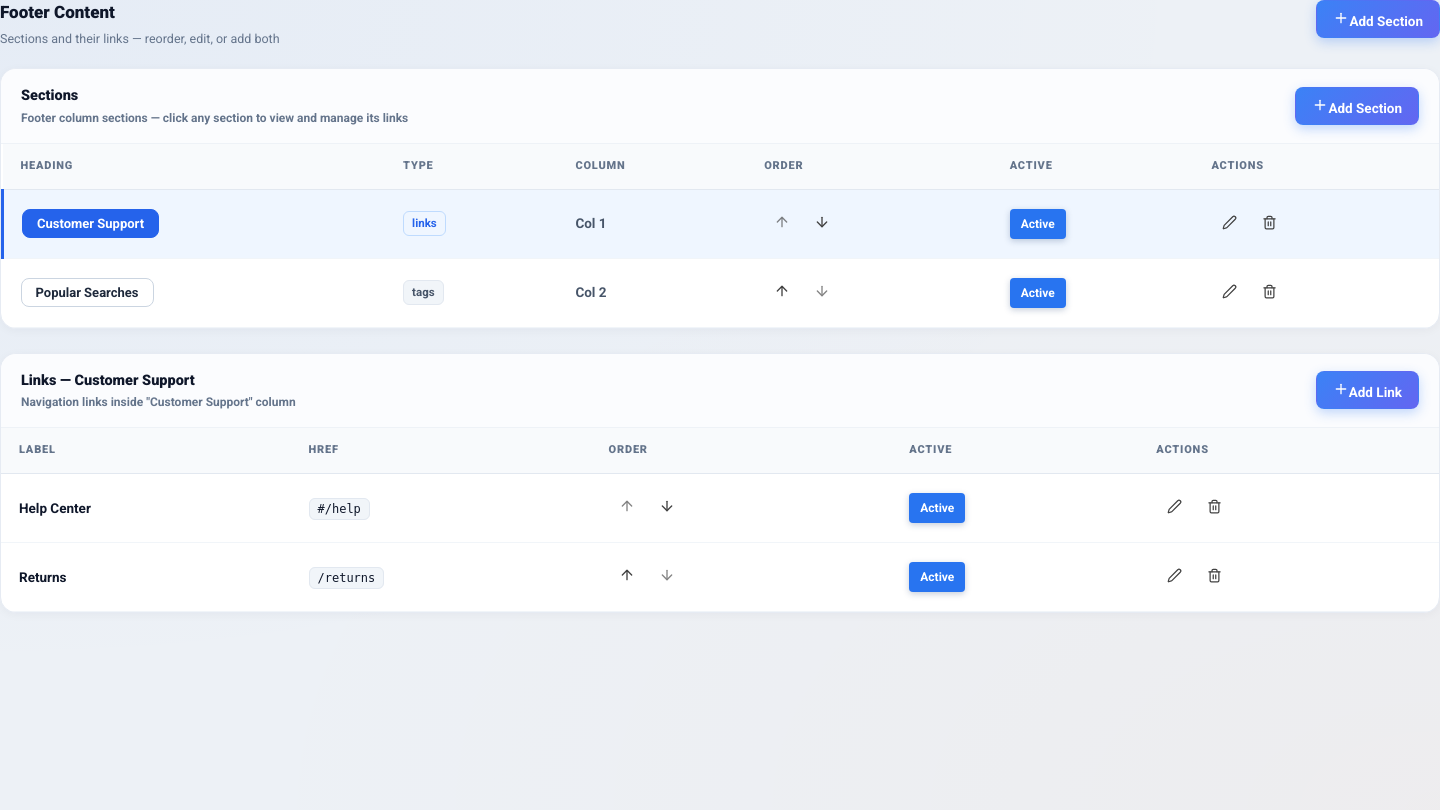
Scenario: FooterEditor › drops the link clause from the delete title when the section is empty
Expected: the button "Popular Searches" is shown, x1=20 y1=278 x2=154 y2=307
Click the button named "Delete section Popular Searches": (1269, 292) x1=1251 y1=274 x2=1287 y2=310
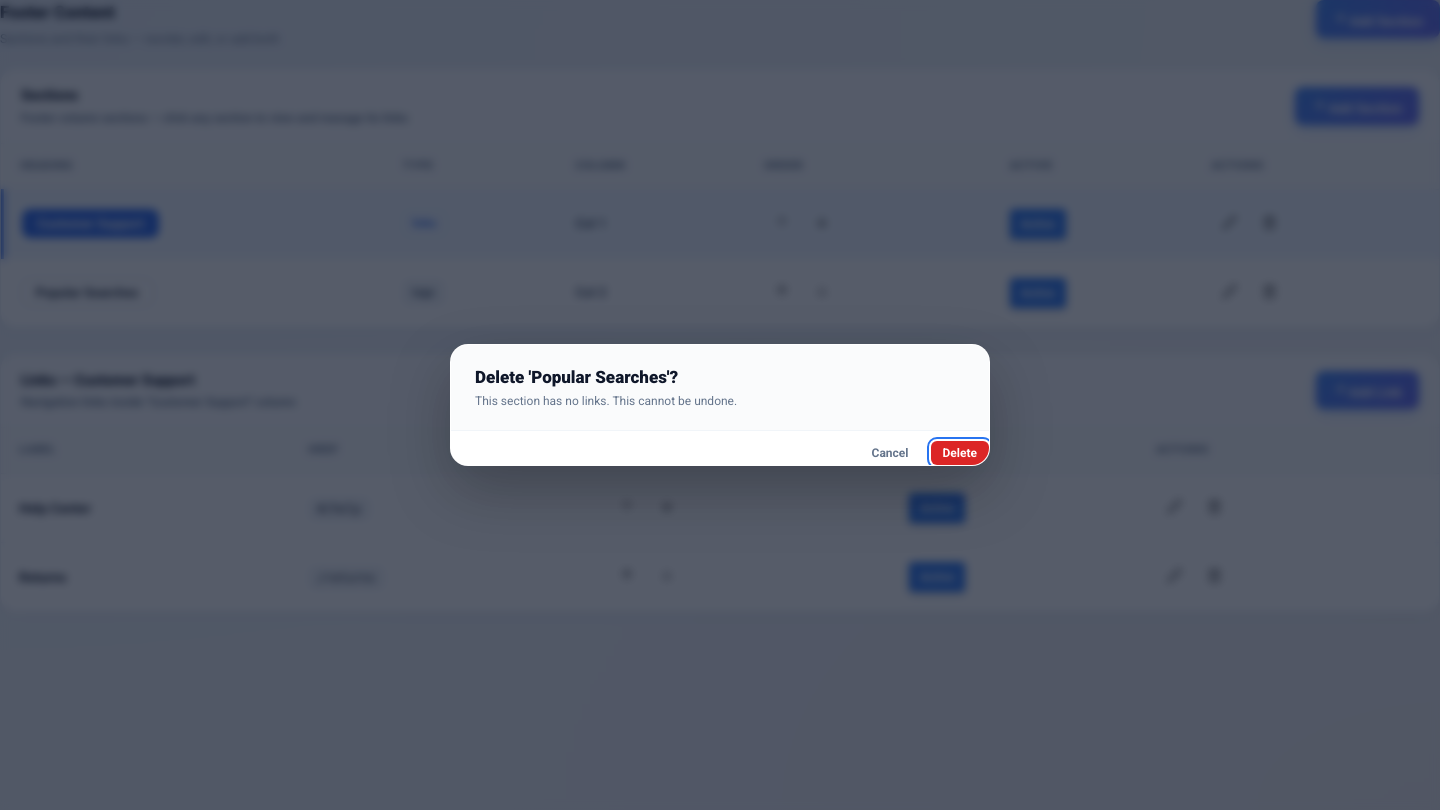
Expected: the heading "Delete 'Popular Searches'?" is shown, x1=475 y1=367 x2=678 y2=387
Expected: the text "This section has no links. This cannot be undone." is shown, x1=475 y1=392 x2=737 y2=410
